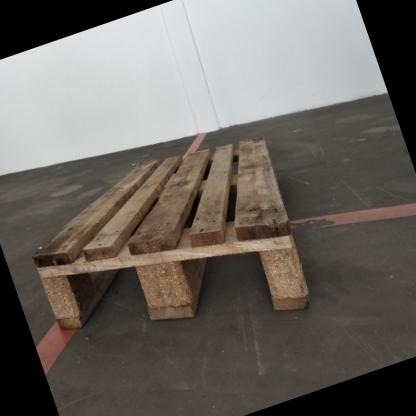BoxFace: (34, 131, 314, 334)
